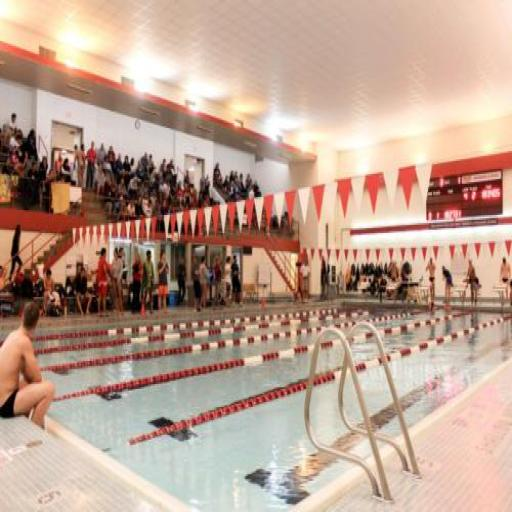swimming: (0, 298, 57, 431), (461, 256, 481, 309), (422, 253, 438, 313)
